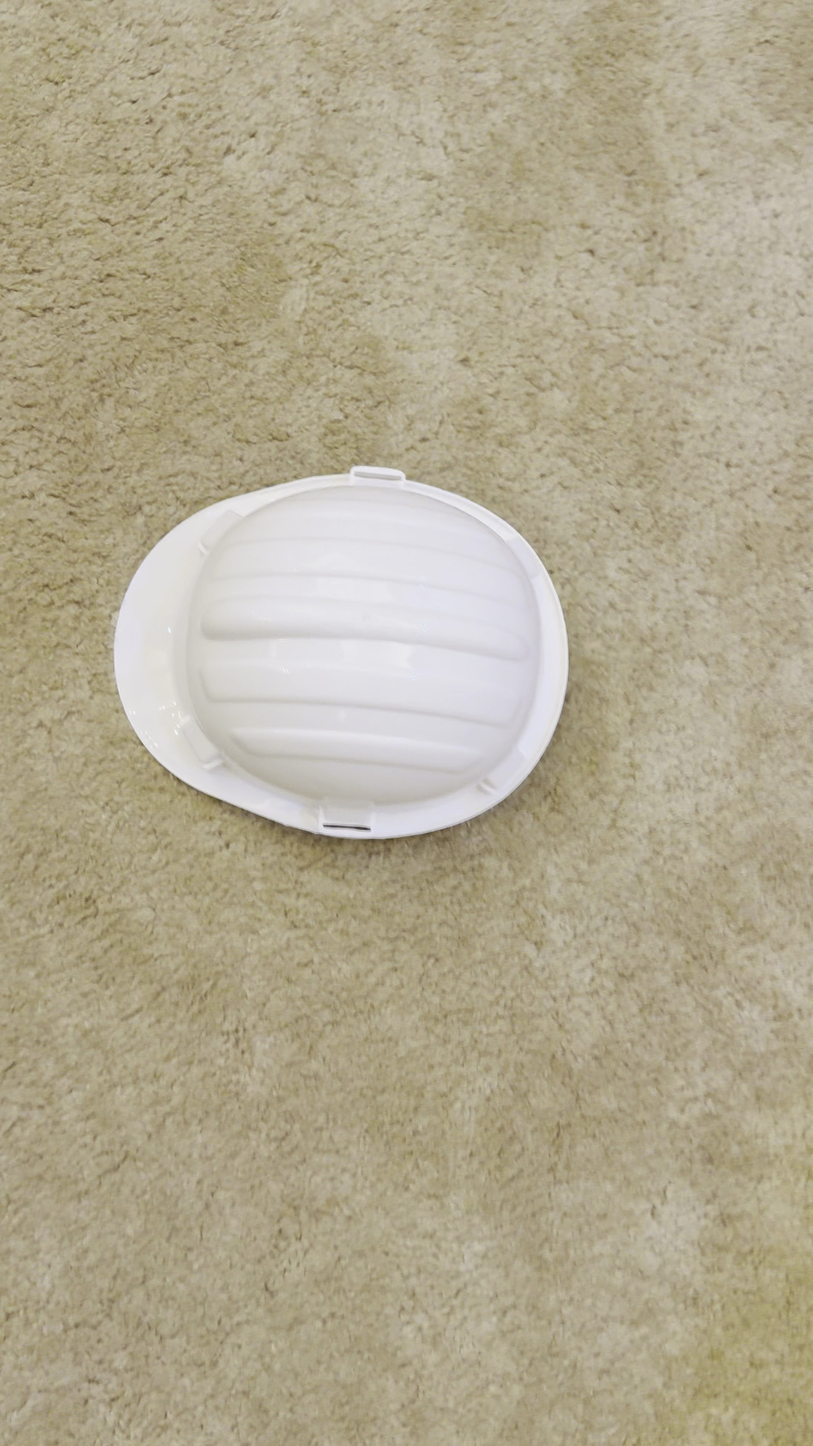safety_helmet: (111, 462, 571, 843)
